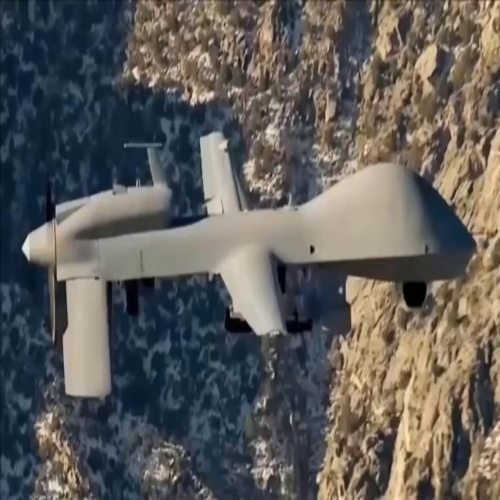uav755: (6, 128, 480, 399)
